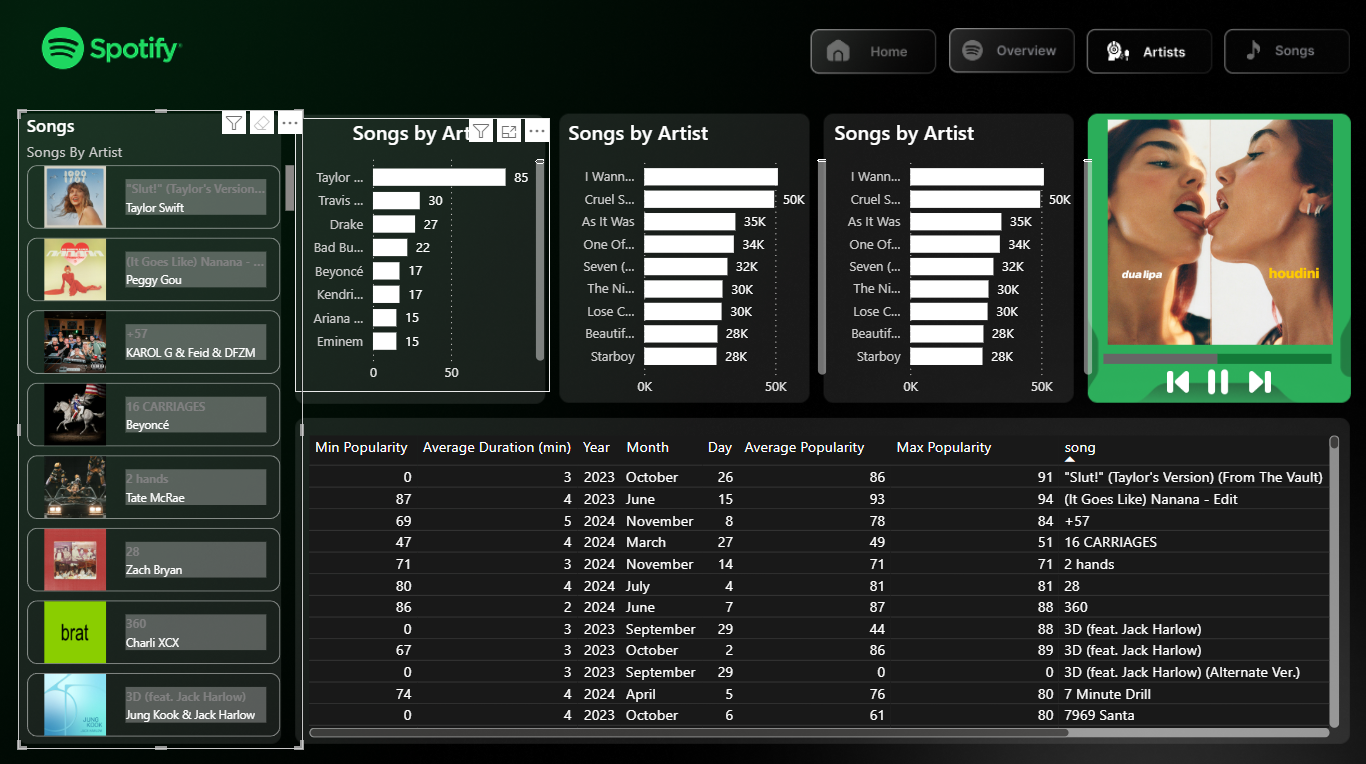

The dashboard page shown, as its layout file describes it:
{"tool":"powerbi","page":{"name":"Artist","canvas":[1280,720],"ordinal":1},"visuals":[{"type":"actionButton","box":[757.3,35.1,112.7,39.7],"z":0},{"type":"actionButton","box":[885.7,35.1,112.7,39.7],"z":1000},{"type":"actionButton","box":[1009.4,35.1,112.7,39.7],"z":2000},{"type":"actionButton","box":[1136.9,35.1,112.7,39.7],"z":3000},{"type":"cardVisual","fields":{"Data":["Min(Top-50-World.album_cover_url)"]},"box":[869.9,16,361.8,453.1],"z":4000},{"type":"hundredPercentStackedBarChart","fields":{"Y":["_Measures.Average Popularity","Avg(Top-50-World.popularity)"]},"box":[1021.4,299.2,220.7,73],"z":5000},{"type":"image","box":[1151.6,343.5,38.8,33.2],"z":6000},{"type":"image","box":[1077.7,343.5,35.1,33.2],"z":7000},{"type":"image","box":[1112.8,343.5,38.8,33.2],"z":8000},{"type":"shape","box":[1007.3,108.2,248.3,267.8],"z":9000},{"type":"clusteredBarChart","title":"Songs by Artist","fields":{"Category":["Top-50-World.artist"],"Y":["_Measures.Distinct Songs"]},"box":[279.8,116.4,235.5,253],"z":10000},{"type":"clusteredBarChart","title":"Songs by Artist","fields":{"Category":["Top-50-World.song"],"Y":["Sum(Top-50-World.popularity)"]},"box":[527.3,116.4,248.4,266],"z":11000},{"type":"clusteredBarChart","title":"Songs by Artist","fields":{"Category":["Top-50-World.song"],"Y":["Sum(Top-50-World.popularity)"]},"box":[768.8,116.2,248.3,266],"z":12000},{"type":"advancedSlicerVisual","title":"Songs ","fields":{"Values":["Top-50-World.song"]},"box":[24,109,263.2,590.1],"z":13000},{"type":"tableEx","fields":{"Values":["_Measures.Min Popularity","_Measures.Average Duration (min)","Top-50-World.release_date.Variation.Date Hierarchy.Year","Top-50-World.release_date.Variation.Date Hierarchy.Month","Top-50-World.release_date.Variation.Date Hierarchy.Day","_Measures.Average Popularity","_Measures.Max Popularity","Top-50-World.song"]},"box":[287.2,404.5,962.3,289.1],"z":14000}]}

Visuals, with their boxes in screenshot pixels (x1, y1, x2, y2), scaled from the page's 1280x720 canvas onto the 1366x764 screenshot:
actionButton: region(808, 37, 928, 79)
actionButton: region(945, 37, 1065, 79)
actionButton: region(1077, 37, 1197, 79)
actionButton: region(1213, 37, 1334, 79)
cardVisual - Min(Top-50-World.album_cover_url): region(928, 17, 1314, 498)
hundredPercentStackedBarChart - _Measures.Average Popularity x Avg(Top-50-World.popularity): region(1090, 317, 1326, 395)
image: region(1229, 364, 1270, 400)
image: region(1150, 364, 1188, 400)
image: region(1188, 364, 1229, 400)
shape: region(1075, 115, 1340, 399)
"Songs by Artist" clusteredBarChart: region(299, 124, 550, 392)
"Songs by Artist" clusteredBarChart: region(563, 124, 828, 406)
"Songs by Artist" clusteredBarChart: region(820, 123, 1085, 406)
"Songs " advancedSlicerVisual: region(26, 116, 306, 742)
tableEx - _Measures.Min Popularity x _Measures.Average Duration (min): region(306, 429, 1333, 736)
